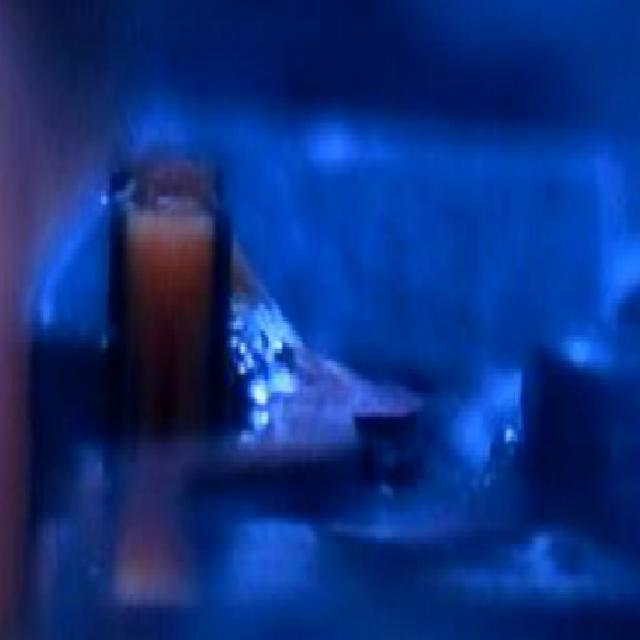Good: (212, 221, 364, 450)
